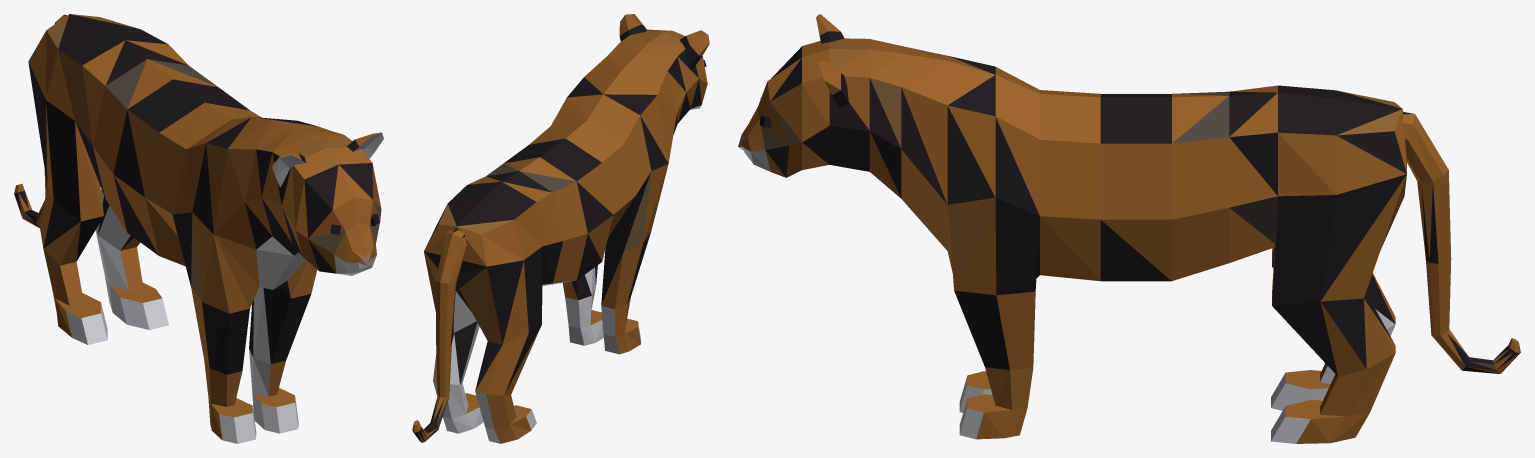
Rendered from tiger.glb.
3 renders of one model, left to right at view 1: azimuth 30°, elevation 25°; view 2: azimuth 150°, elevation 25°; view 3: azimuth 270°, elevation 25°, orthographic. The views are drawn at different scales.
Parts seen in each view (by area): view 1: tiger; view 2: tiger; view 3: tiger.
Boxes of the visible parts, <box> form: tiger: <box>14,14,383,443</box>; tiger: <box>412,14,709,443</box>; tiger: <box>738,14,1520,443</box>.
Size of the model in its own units: 45.1 by 123 by 230.
